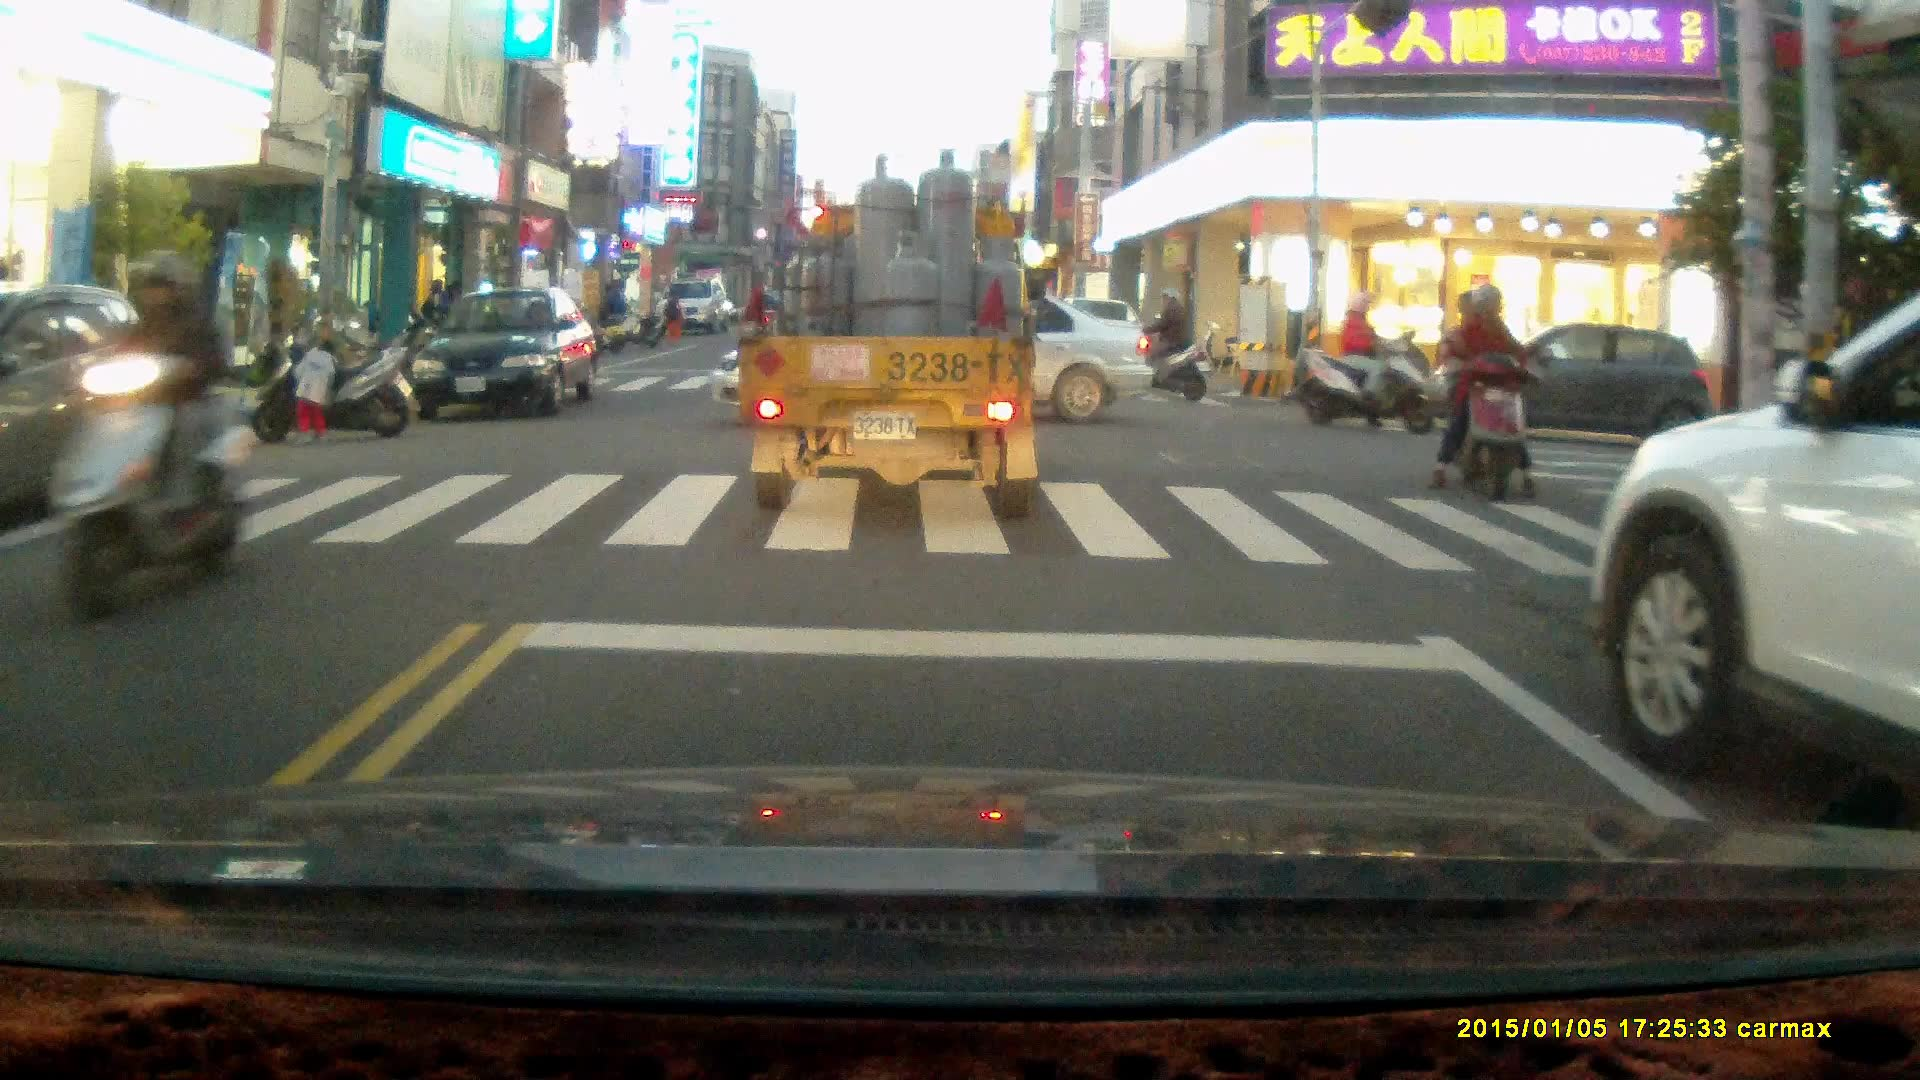pedestrian: (290, 340, 338, 447), (604, 279, 631, 342), (663, 287, 686, 344)
rider: (46, 251, 245, 630), (1428, 285, 1544, 506), (1295, 294, 1433, 433), (1113, 284, 1208, 404)
vehicle: (1583, 294, 1920, 800), (739, 145, 1041, 526), (1447, 324, 1718, 440), (409, 291, 602, 420), (657, 281, 730, 336)
